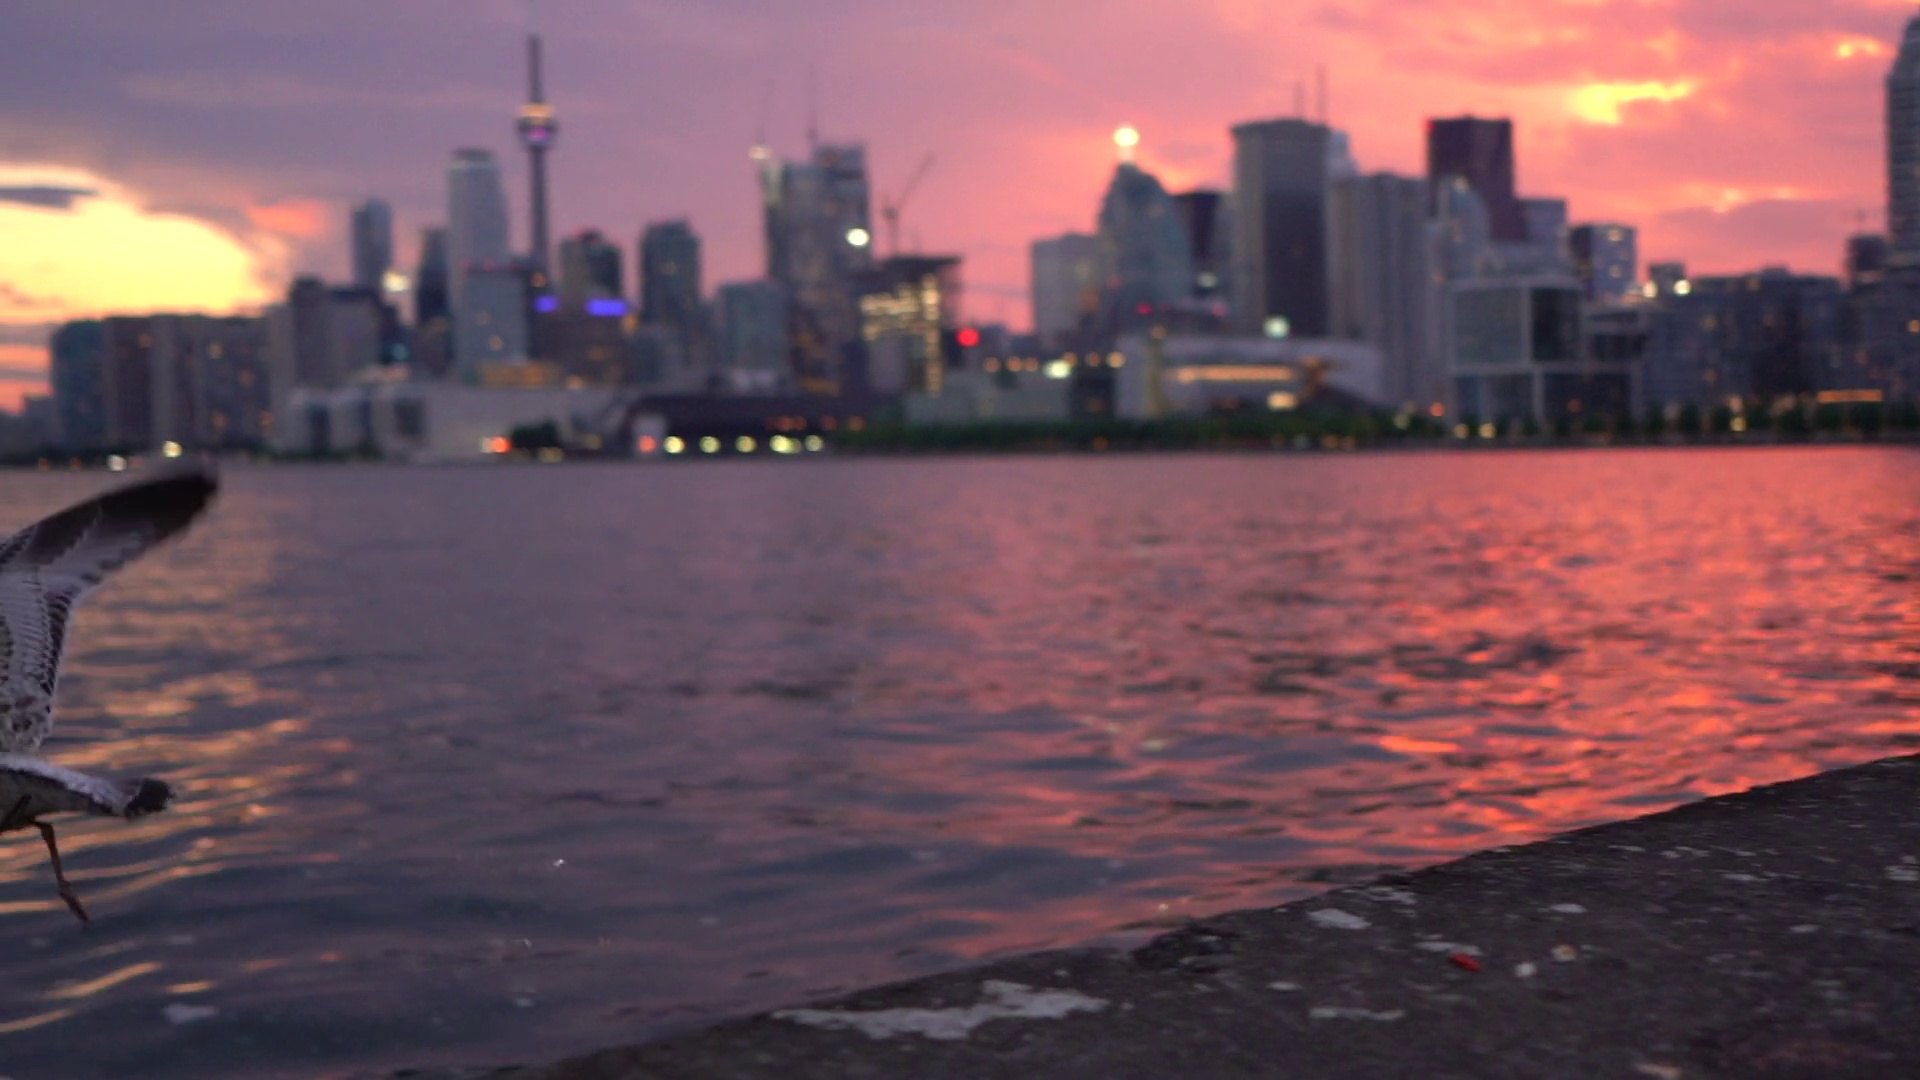bird: (0, 471, 215, 928)
